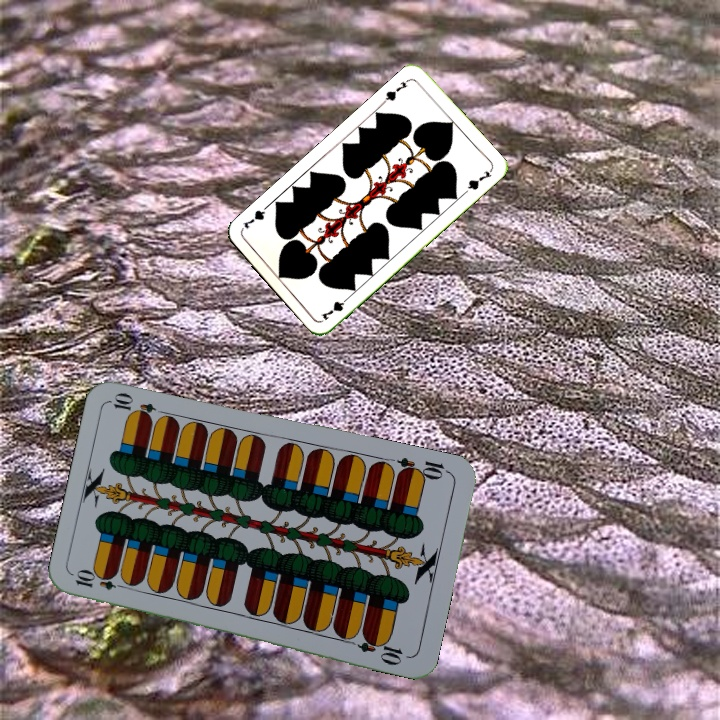E10: (393, 453, 452, 483), (71, 569, 131, 593)
G7: (317, 292, 353, 323), (379, 75, 412, 106)
